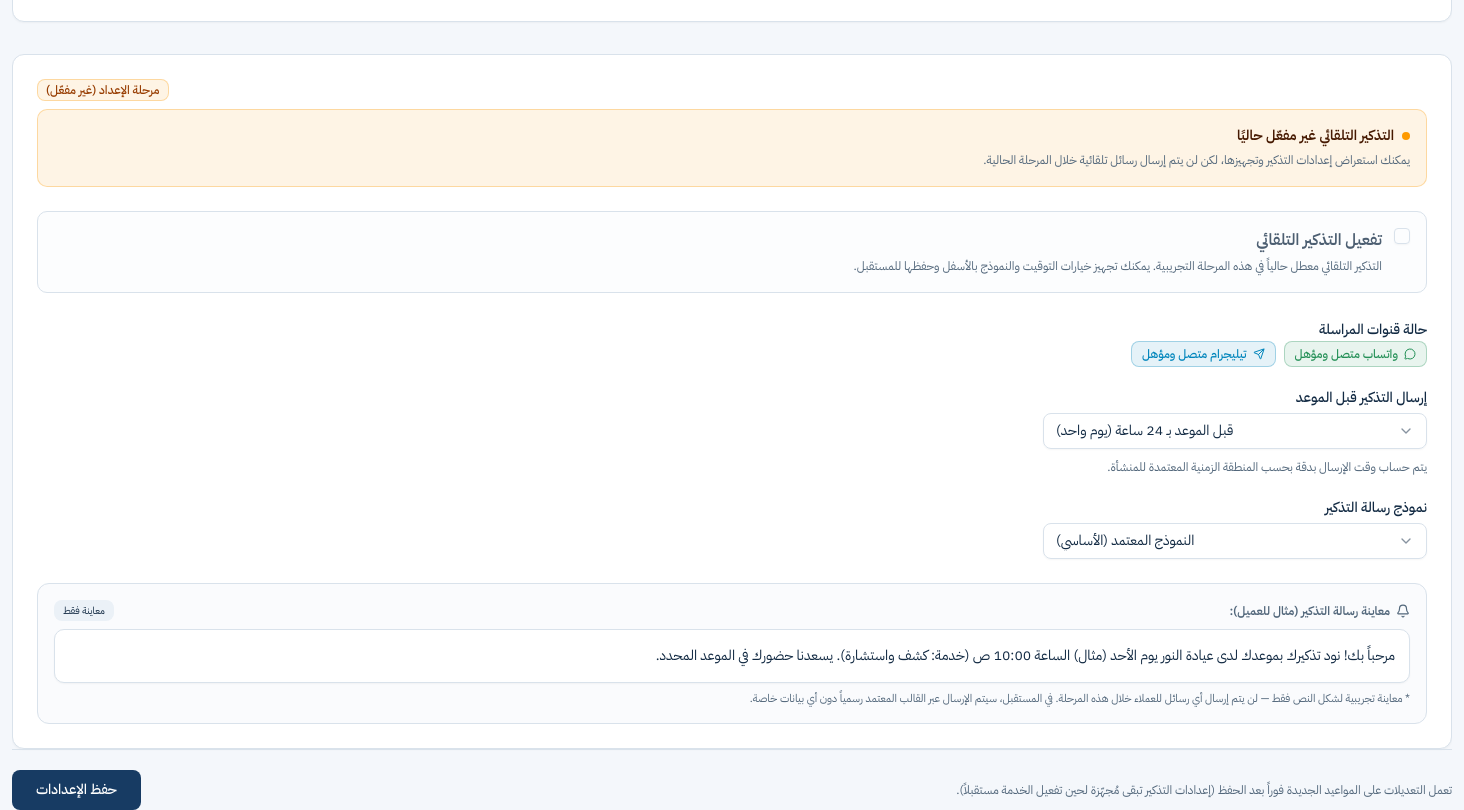
Scenario: SettingsScreen — Inactive & Unavailable Default Booking Service (ISS-007 / BK-41) › 8. Invalid active-mode save remains blocked/rejected
(page scrolled)
Click the button "حفظ الإعدادات". click: [76, 790]
box: 12,770 -> 141,809
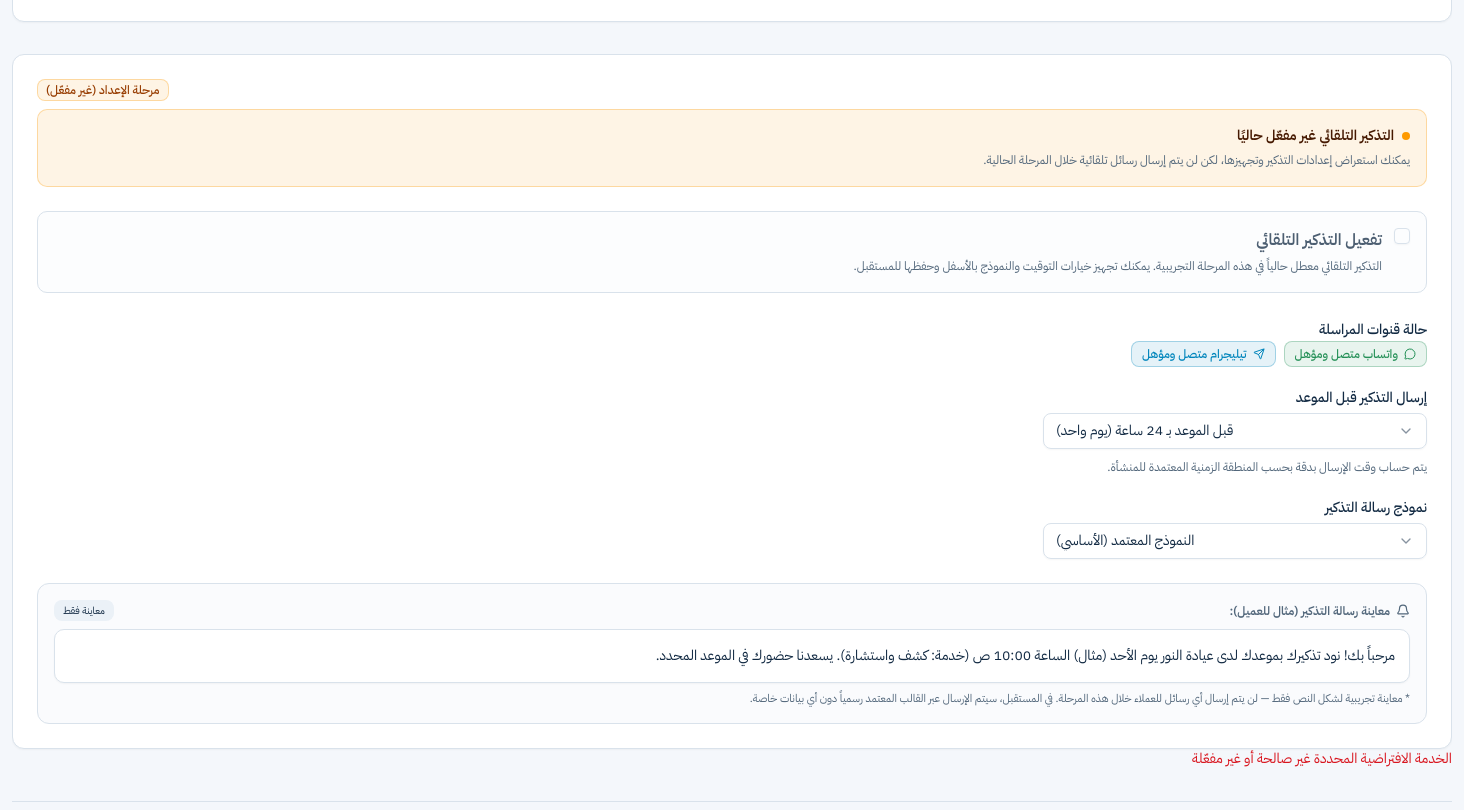
Expected: the text "الخدمة الافتراضية المحددة غير صالحة أو غير مفعّلة" is shown, 1192,748 -> 1452,769
